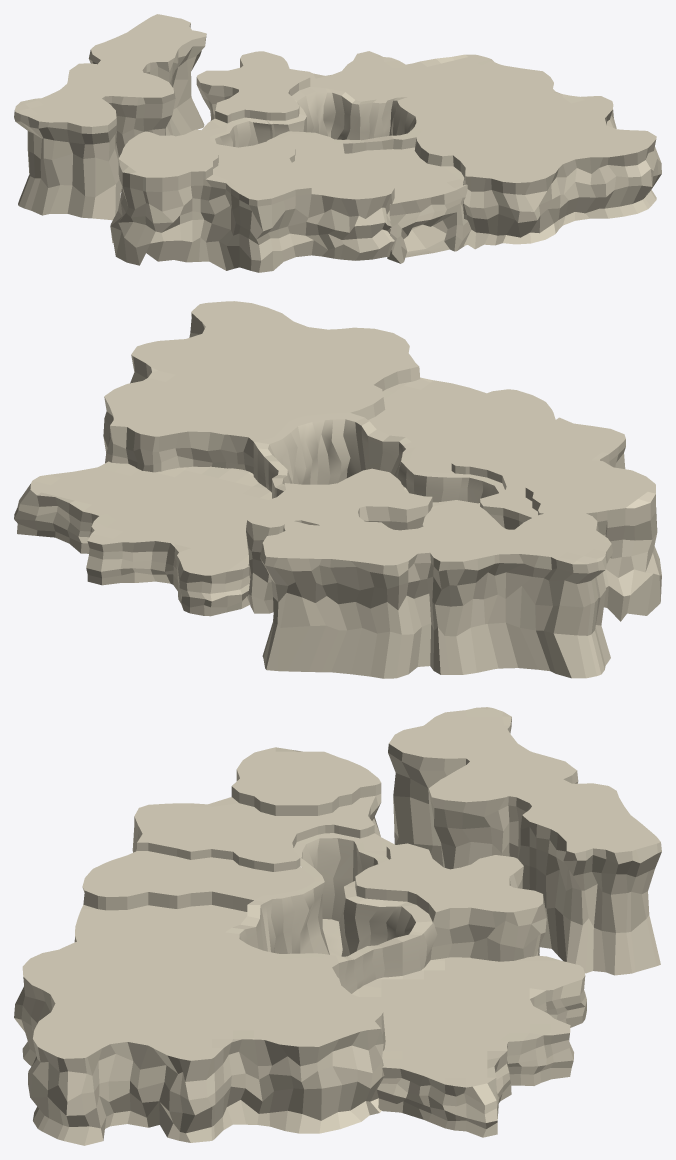
File: MOME.P4.0001.02_Scale_Blockout_Modular.fbx
The picture shows the model from 3 angles, top to bottom: view 1: azimuth 30°, elevation 25°; view 2: azimuth 150°, elevation 25°; view 3: azimuth 270°, elevation 25°; orthographic projection. The views are drawn at different scales.
Parts seen in each view (by area): view 1: Biome_Volcano, Biome_Dessert, Biome_City, Biome_Underground, Biome_Unknown, Biome_Junk, Biome_Jungle; view 2: Biome_City, Biome_Dessert, Biome_Jungle, Biome_Volcano, Biome_Underground, Biome_Junk, Biome_Unknown; view 3: Biome_Dessert, Biome_City, Biome_Jungle, Biome_Volcano, Biome_Underground, Biome_Junk, Biome_Unknown.
Part boxes in pixels (x1,y1,x2,y2): Biome_Volcano: [110, 118, 394, 272]; Biome_Dessert: [406, 61, 661, 249]; Biome_City: [14, 14, 206, 220]; Biome_Underground: [210, 87, 449, 257]; Biome_Unknown: [344, 147, 471, 263]; Biome_Junk: [196, 51, 310, 123]; Biome_Jungle: [290, 51, 493, 101]; Biome_City: [260, 500, 612, 678]; Biome_Dessert: [103, 301, 420, 474]; Biome_Jungle: [14, 461, 271, 616]; Biome_Volcano: [409, 389, 661, 621]; Biome_Underground: [253, 412, 504, 506]; Biome_Junk: [246, 468, 432, 613]; Biome_Unknown: [368, 377, 486, 441]; Biome_Dessert: [14, 936, 385, 1145]; Biome_City: [388, 707, 661, 975]; Biome_Jungle: [352, 955, 586, 1137]; Biome_Volcano: [82, 747, 394, 911]; Biome_Underground: [223, 834, 437, 993]; Biome_Junk: [355, 843, 546, 961]; Biome_Unknown: [74, 904, 247, 946].
Bounding box in the file's own units: 1797 × 369 × 1529.
